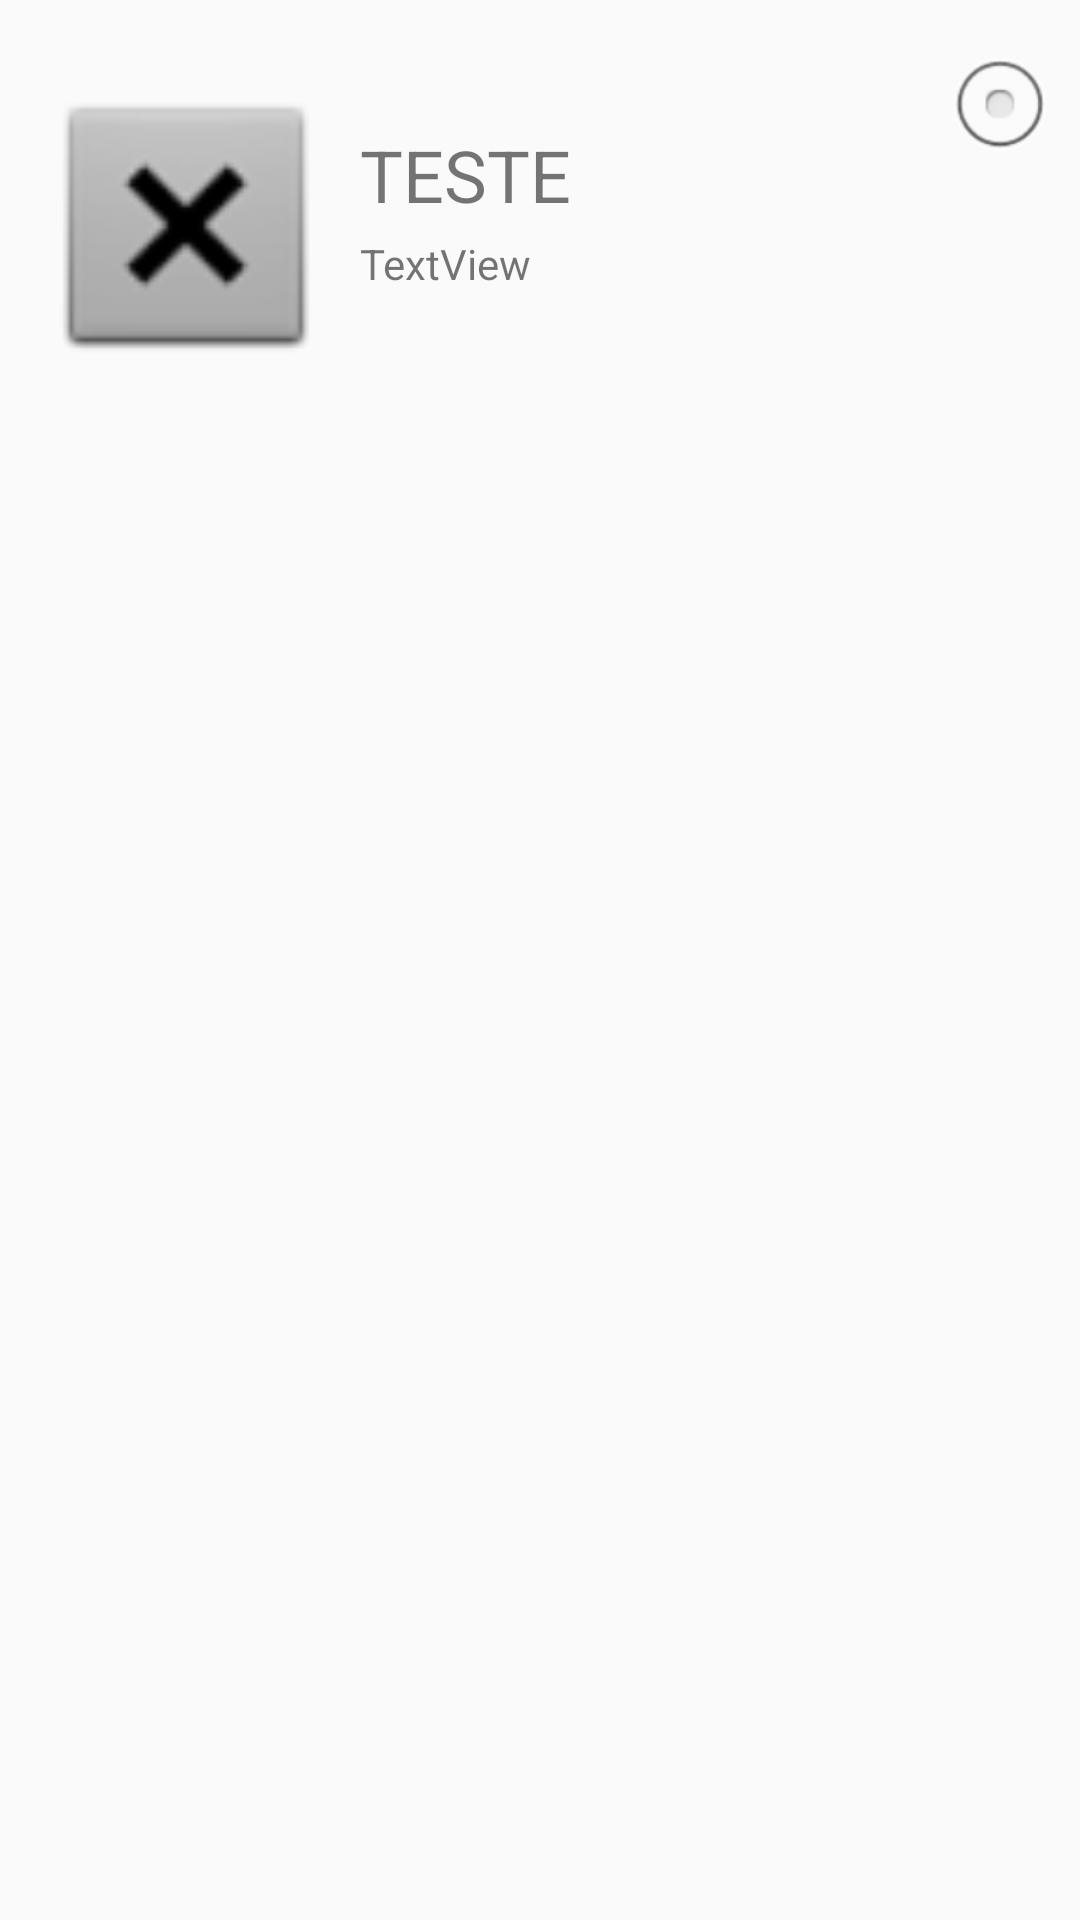

Where to tap for icons on this 1080px×1920px app screen, as point (x, y):
radio: point (1000, 104)
